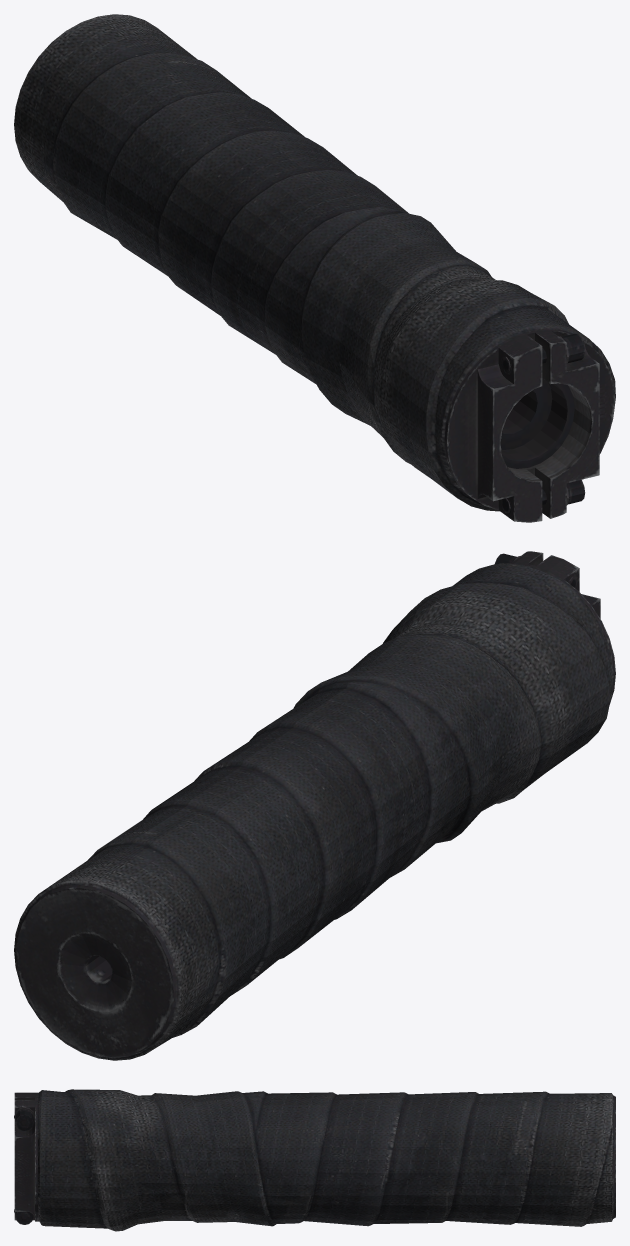
The picture shows the model from 3 angles, top to bottom: view 1: azimuth 30°, elevation 25°; view 2: azimuth 150°, elevation 25°; view 3: azimuth 270°, elevation 25°; orthographic projection. The views are drawn at different scales.
Visible parts, largest first — view 1: TW_59fb257e86f7742981561852_PZ_Import; view 2: TW_59fb257e86f7742981561852_PZ_Import; view 3: TW_59fb257e86f7742981561852_PZ_Import.
Part boxes in pixels (box(x1,y1,x2,y2)): TW_59fb257e86f7742981561852_PZ_Import: box(14, 14, 615, 522); TW_59fb257e86f7742981561852_PZ_Import: box(14, 551, 615, 1060); TW_59fb257e86f7742981561852_PZ_Import: box(14, 1089, 615, 1231).
Size of the model in its own units: 0.0279 by 0.1186 by 0.028.
Materials: 1 (1 with a texture image).
